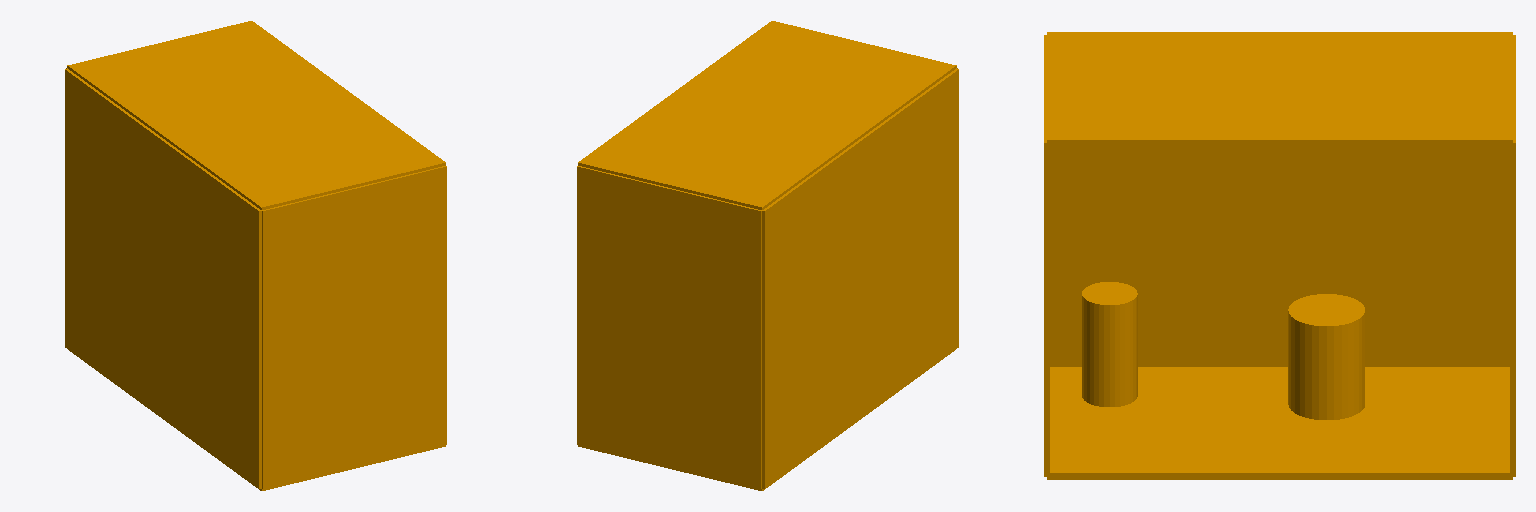
robot.urdf — syn_can_cabinet_772:
<?xml version="1.0" ?>
<robot name="syn_can_cabinet_772">
    <link concave="yes" name="base_link">
        <inertial>
            <origin rpy="0 0 0" xyz="0 0 0"/>
            <mass value="0.0"/>
            <inertia ixx="1e-08" ixy="0" ixz="0" iyy="1e-08" iyz="0" izz="1e-08"/>
        </inertial>
        <visual>
            <origin xyz="0 0 0" rpy="0 0 0" />
            <geometry>
                <mesh filename="syn_can_cabinet_772.obj" scale="1.000000 1.000000 1.000000"/>
            </geometry>         
        </visual>

        <collision concave="yes">
            <origin xyz="0 0 0" rpy="0 0 0"/>
            <geometry>
                <mesh filename="syn_can_cabinet_772.obj" scale="1.000000 1.000000 1.000000"/>
            </geometry>
        </collision>
    </link>
</robot>
    

--- Facts derived from the render (not from the file) ---
Views: 3 orthographic renders of the robot side by side, from view 1: azimuth 30°, elevation 25°; view 2: azimuth 150°, elevation 25°; view 3: azimuth 270°, elevation 25°.
Robot: syn_can_cabinet_772 — 1 links, 0 joints (none); root link base_link; default pose: every joint at zero.
Visible links, largest first — view 1: base_link; view 2: base_link; view 3: base_link.
Boxes of the visible links, box(x1,y1,x2,y2) form: base_link: box(65, 21, 446, 490); base_link: box(577, 21, 958, 490); base_link: box(1044, 32, 1515, 479).
Bounding box of the posed robot: 0.1983 × 0.3601 × 0.2871 m (x, y, z).
1 mesh visuals loaded from 1 distinct referenced files (1 OBJ).
